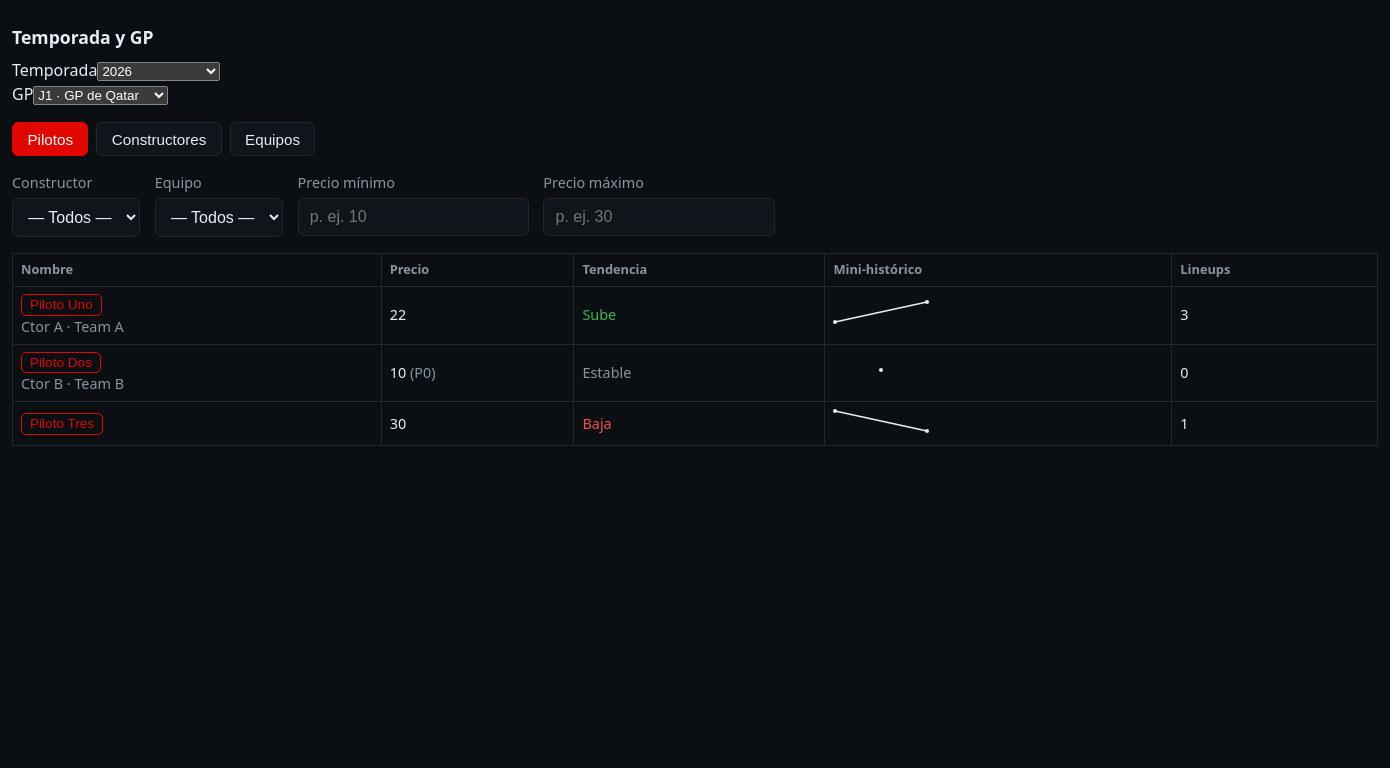
Test: MercadoPage (US-14) › al cambiar de GP se limpia la selección y se re-pide la lista
Click the button "Piloto Uno" at (61, 305), box [21,294,102,316]
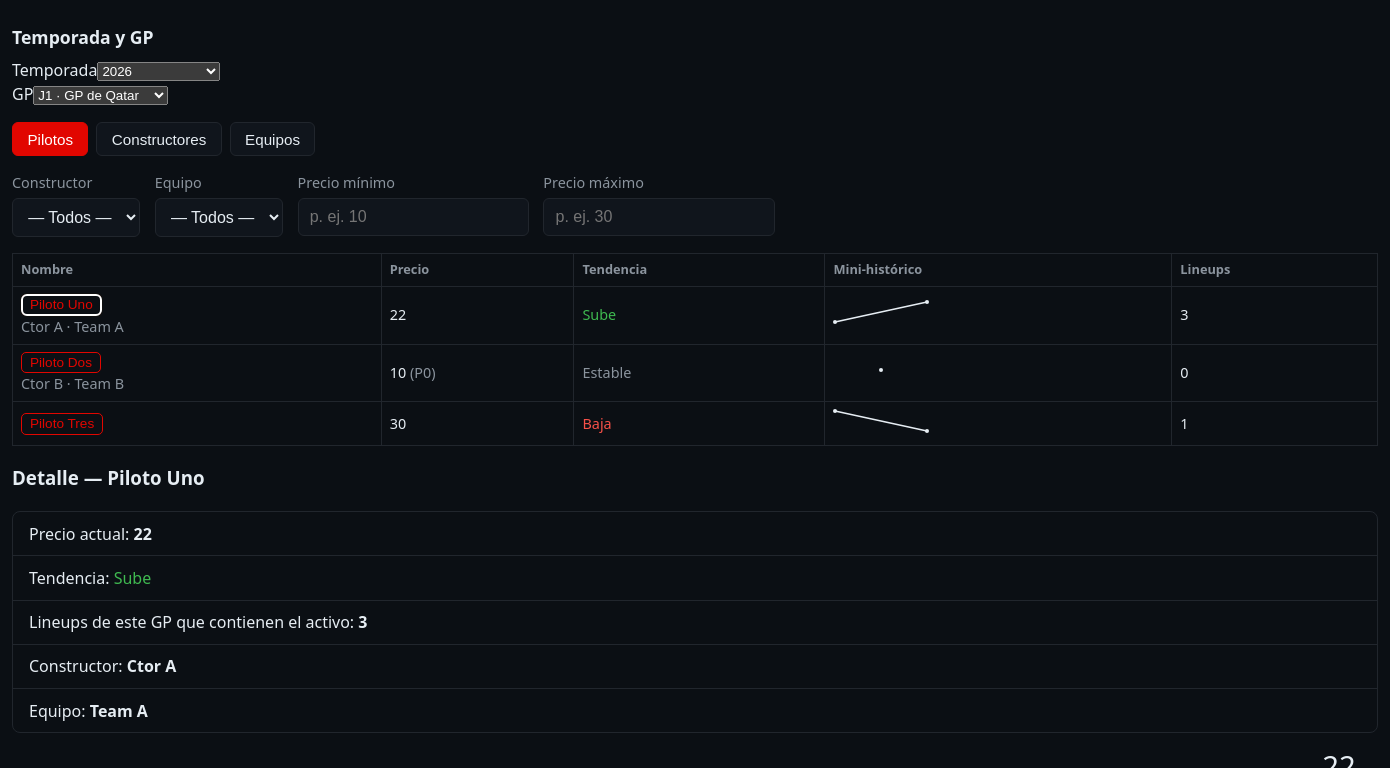
Now the heading "Detalle — Piloto Uno" is shown, box [12,465,204,490]
Select "J2 · GP de España" in the dropdown labelled "GP" at (101, 96), box [33,86,168,105]
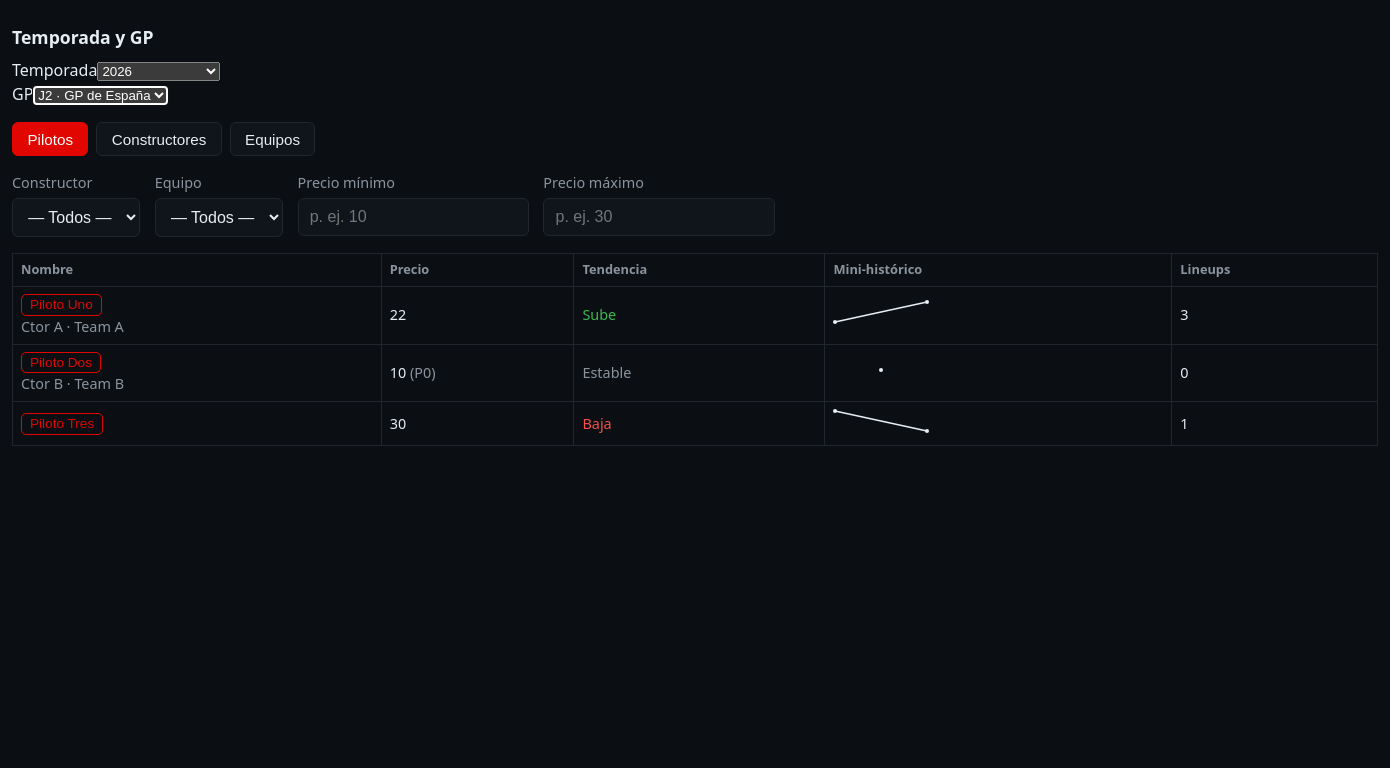
Now the heading "Detalle — Piloto Uno" is gone
